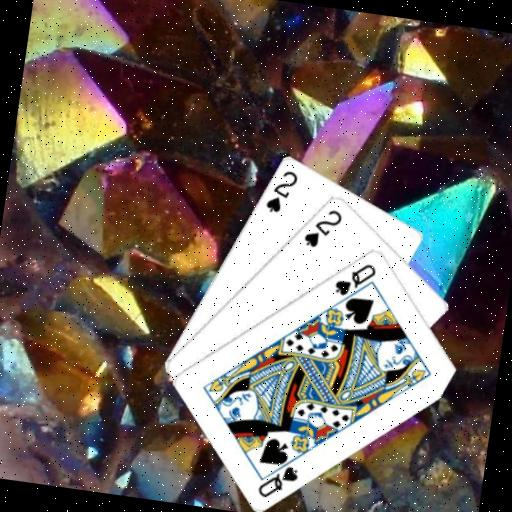2S: (300, 202, 345, 252), (262, 164, 301, 217)
QS: (330, 256, 379, 302), (254, 458, 302, 503)
